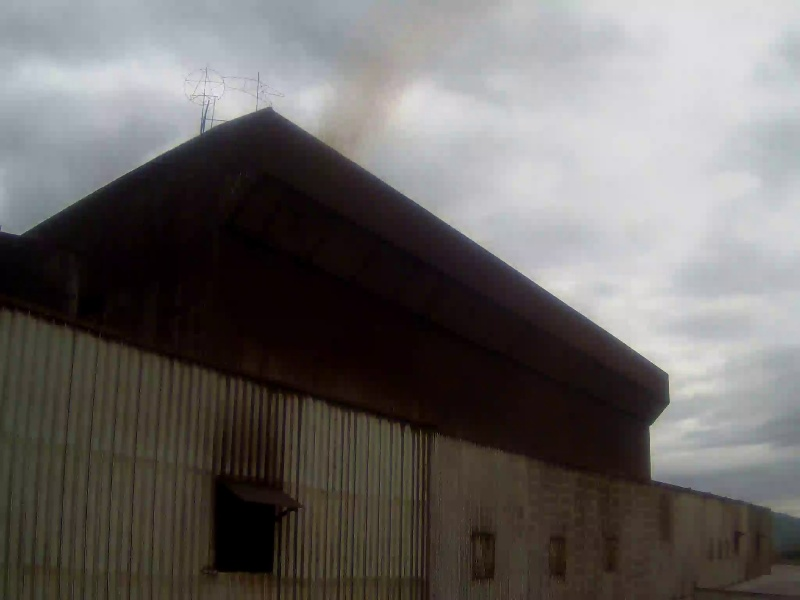bom: (8, 22, 276, 176), (619, 296, 778, 454)
ruim: (281, 10, 677, 380)
